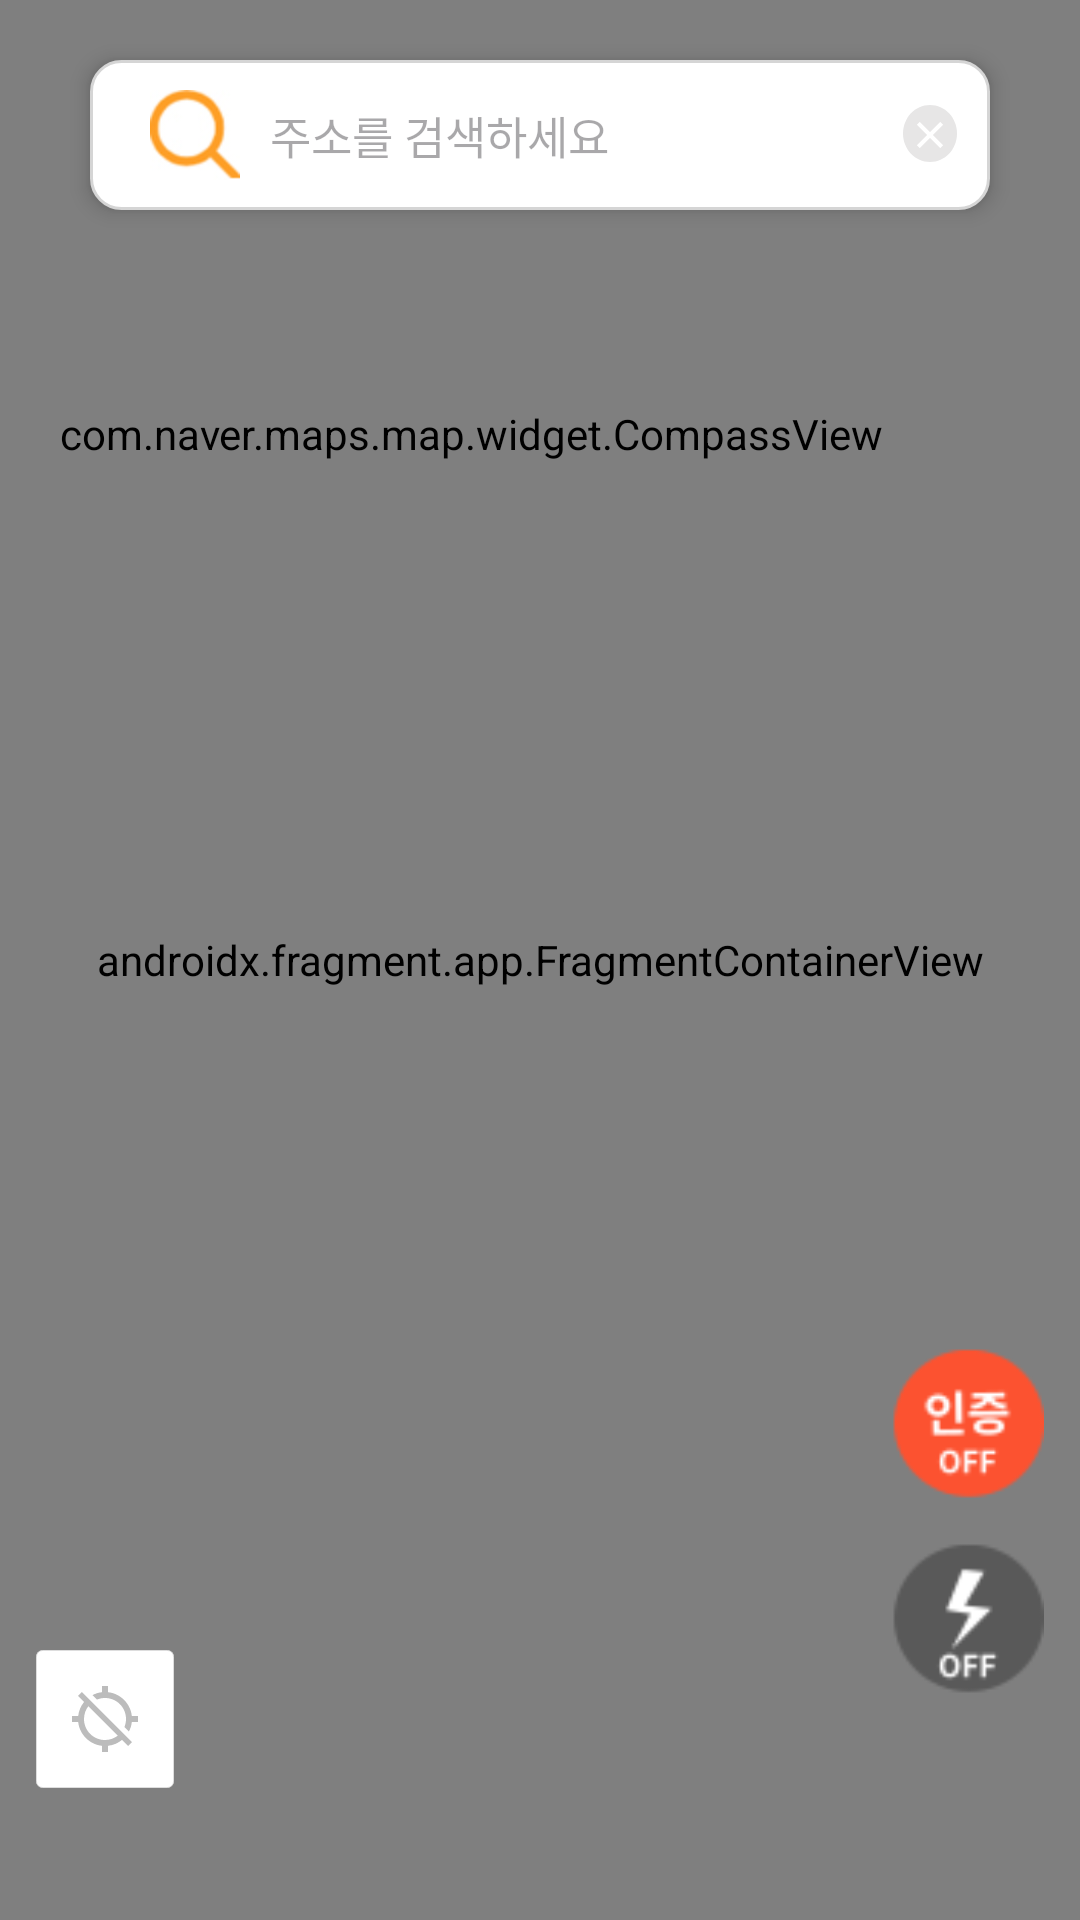

Screen size 1080px x 1920px. Icon name, then its box in pixels as [x1, y1, x2, y2]:
magnifire: [150, 90, 240, 179]
xicon: [903, 106, 957, 161]
